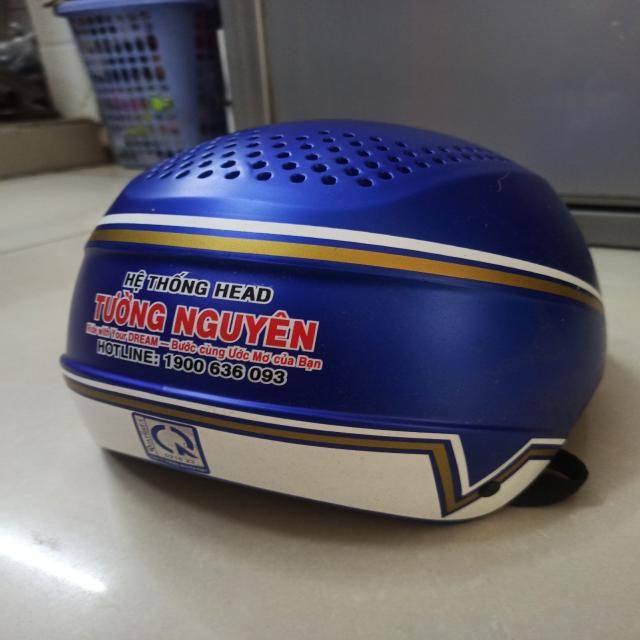Helmet: (56, 116, 610, 526)
